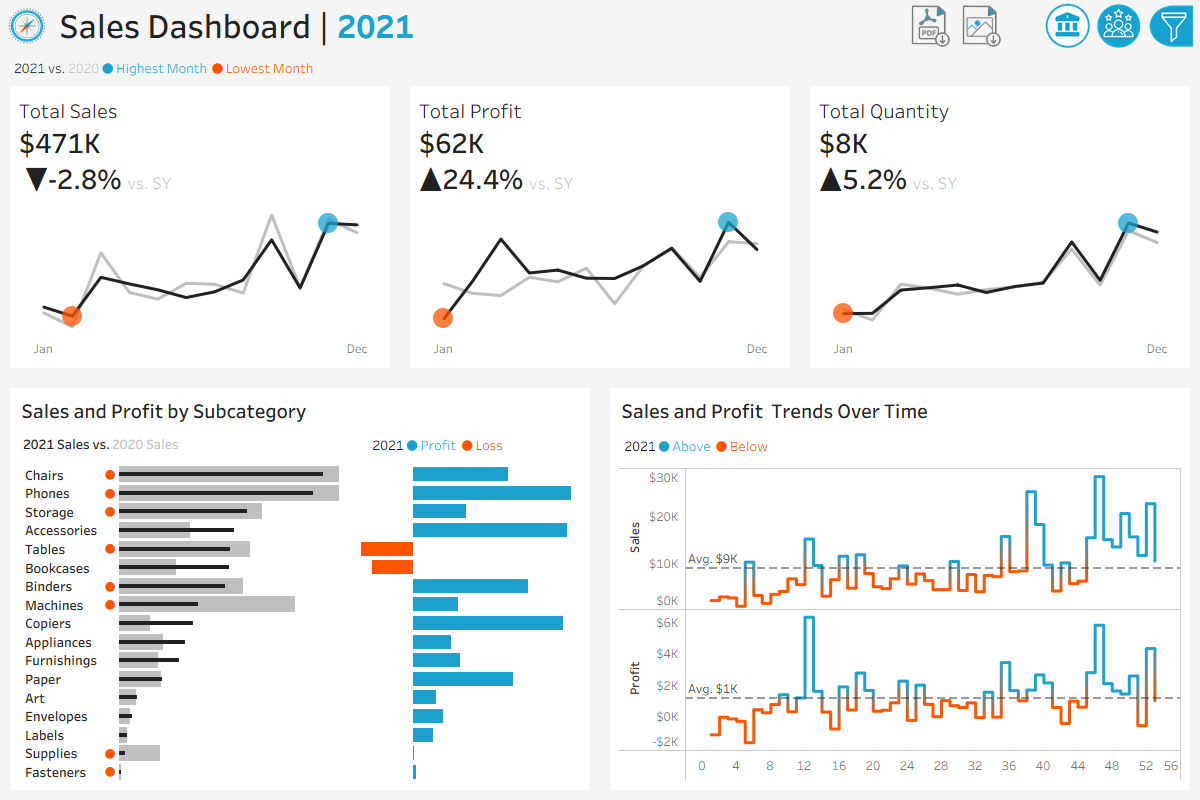

The dashboard page shown, as its layout file describes it:
{"tool":"tableau","page":{"name":"Sales Dashboard","canvas":[1200,800],"ordinal":1},"visuals":[{"type":"image","param":"Image/Icon - Logo.png","box":[0,0,52.7,51]},{"type":"text","box":[52.7,0,850,51]},{"type":"dashboard-object","box":[902.7,0,51,51]},{"type":"dashboard-object","box":[953.7,0,51,51]},{"type":"blank","box":[1007.3,0,35,51]},{"type":"dashboard-object","box":[1042.3,0,51,51]},{"type":"dashboard-object","box":[1093.3,0,52,51]},{"type":"dashboard-object","box":[1145.3,0,52,51]},{"type":"worksheet","title":"Legend KPI","mark":"Automatic","box":[0,51,1200,35]},{"type":"worksheet","title":"KPI Sales","mark":"Line","rows":["Calculation_0336792951341065"],"cols":["Order Date"],"box":[0,86,400,292]},{"type":"worksheet","title":"KPI Profit","mark":"Line","rows":["Min/Max Sales (copy)_0179837687046158"],"cols":["Order Date"],"box":[400,86,400,292]},{"type":"worksheet","title":"KPI Quantity","mark":"Line","rows":["Min/Max Profit (copy)_0179837689978900"],"cols":["Order Date"],"box":[800,86,400,292]},{"type":"parameter","param":"[Parameters].[Parameter 1]","box":[939,87,242,60]},{"type":"parameter","param":"[Parameters].[Choose Primary Year (copy)_0336792909492229]","box":[939,147,242,60]},{"type":"text","box":[939,207,242,50]},{"type":"filter","title":"KPI Sales","param":"[federated.0j6tzli15aromr19julgg1s33fei].[none:Category:nk]","box":[939,257,242,110]},{"type":"filter","title":"Subcategory Comparison","param":"[federated.0j6tzli15aromr19julgg1s33fei].[none:Sub-Category:nk]","box":[939,367,242,60]},{"type":"text","box":[15,393,570,35]},{"type":"text","box":[615,393,570,35]},{"type":"text","box":[939,427,242,50]},{"type":"worksheet","title":"Legend Subcategory Comparison","mark":"Automatic","box":[15,428,348,33]},{"type":"text","box":[363,428,222,33]},{"type":"text","box":[615,428,570,36]},{"type":"worksheet","title":"Subcategory Comparison","mark":"Bar","rows":["Sub-Category","Calculation_0179837695053849"],"cols":["PY Sales (copy)_0336792909484036","Calculation_0336792907505666","PY Sales (copy)_0179837686874123"],"box":[15,461,570,324]},{"type":"worksheet","title":"Weekly Trends","mark":"Line","rows":["Calculation_0336792907505666","PY Sales (copy)_0179837686874123"],"cols":["Order Date"],"box":[615,464,570,321]},{"type":"filter","title":"KPI Sales","param":"[federated.0j6tzli15aromr19julgg1s33fei].[none:Region:nk]","box":[939,477,242,130]},{"type":"filter","title":"KPI Sales","param":"[federated.0j6tzli15aromr19julgg1s33fei].[none:State:nk]","box":[939,607,242,60]},{"type":"filter","title":"KPI Sales","param":"[federated.0j6tzli15aromr19julgg1s33fei].[none:City:nk]","box":[939,667,242,60]}]}

Visuals, with their boxes in screenshot pixels (x1, y1, x2, y2), scaled from the page's 1200x800 canvas onto the 1200x800 screenshot:
image: locate(0, 0, 53, 51)
text: locate(53, 0, 903, 51)
dashboard-object: locate(903, 0, 954, 51)
dashboard-object: locate(954, 0, 1005, 51)
blank: locate(1007, 0, 1042, 51)
dashboard-object: locate(1042, 0, 1093, 51)
dashboard-object: locate(1093, 0, 1145, 51)
dashboard-object: locate(1145, 0, 1197, 51)
"Legend KPI" worksheet: locate(0, 51, 1199, 86)
"KPI Sales" worksheet (Line marks): locate(0, 86, 400, 378)
"KPI Profit" worksheet (Line marks): locate(400, 86, 800, 378)
"KPI Quantity" worksheet (Line marks): locate(800, 86, 1199, 378)
parameter: locate(939, 87, 1181, 147)
parameter: locate(939, 147, 1181, 207)
text: locate(939, 207, 1181, 257)
"KPI Sales" filter: locate(939, 257, 1181, 367)
"Subcategory Comparison" filter: locate(939, 367, 1181, 427)
text: locate(15, 393, 585, 428)
text: locate(615, 393, 1185, 428)
text: locate(939, 427, 1181, 477)
"Legend Subcategory Comparison" worksheet: locate(15, 428, 363, 461)
text: locate(363, 428, 585, 461)
text: locate(615, 428, 1185, 464)
"Subcategory Comparison" worksheet (Bar marks): locate(15, 461, 585, 785)
"Weekly Trends" worksheet (Line marks): locate(615, 464, 1185, 785)
"KPI Sales" filter: locate(939, 477, 1181, 607)
"KPI Sales" filter: locate(939, 607, 1181, 667)
"KPI Sales" filter: locate(939, 667, 1181, 727)
